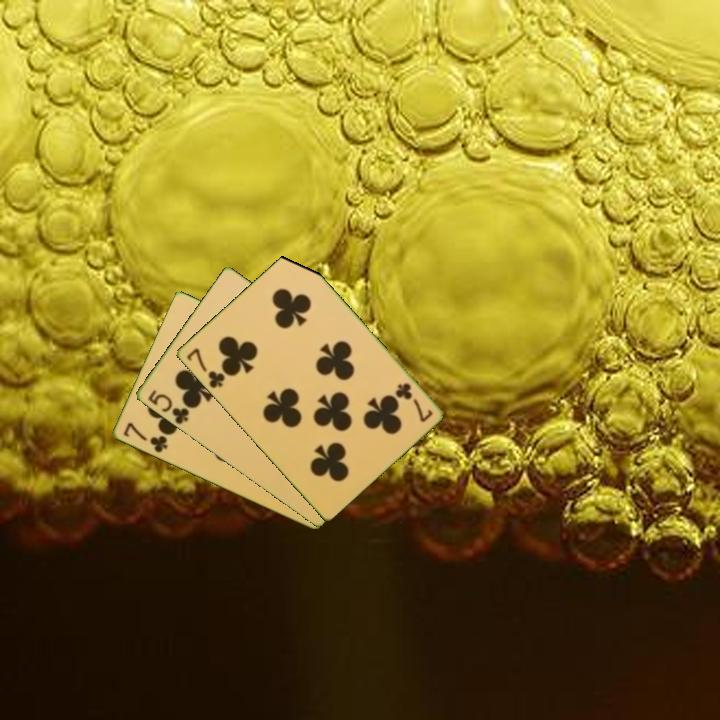5c: (144, 386, 193, 428)
7c: (183, 344, 228, 391), (391, 379, 435, 425), (119, 419, 170, 456)
